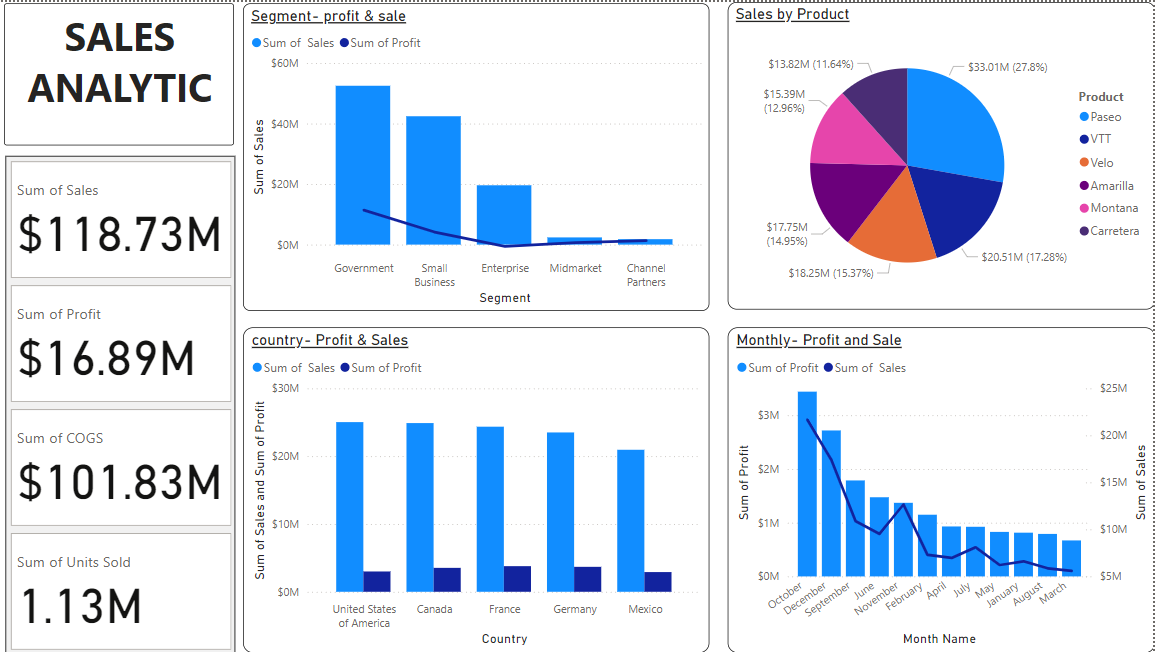

The page's visual inventory and layout, read from the dashboard file:
{"tool":"powerbi","page":{"name":"Page 1","canvas":[1280,720],"ordinal":0},"visuals":[{"type":"cardVisual","fields":{"Data":["Sum(financials. Sales)","Sum(financials.Profit)","Sum(financials.COGS)","Sum(financials.Units Sold)"]},"box":[10,170,254.3,550],"z":0},{"type":"lineStackedColumnComboChart","title":" Segment- profit & sale","fields":{"Category":["financials.Segment"],"Y2":["Sum(financials.Profit)"],"Y":["Sum(financials. Sales)"]},"box":[273.6,1.4,515.3,340.3],"z":1000},{"type":"lineClusteredColumnComboChart","title":" country- Profit & Sales","fields":{"Category":["financials.Country"],"Y":["Sum(financials. Sales)","Sum(financials.Profit)"]},"box":[273.6,359.7,515.3,359.7],"z":2000},{"type":"pieChart","title":"Sales by Product","fields":{"Category":["financials.Product"],"Y":["Sum(financials. Sales)"]},"box":[808.3,0,472.2,340.3],"z":3000},{"type":"lineClusteredColumnComboChart","title":"Monthly- Profit and Sale ","fields":{"Y":["Sum(financials.Profit)"],"Y2":["Sum(financials. Sales)"],"Category":["financials.Month Name"]},"box":[808.3,359.7,472.2,359.7],"z":4000},{"type":"textbox","box":[9.5,1.4,254.1,156.8],"z":5000}]}

Visuals, with their boxes in screenshot pixels (x1, y1, x2, y2), scaled from the page's 1280x720 canvas onto the 1155x652 screenshot:
cardVisual - Sum(financials. Sales) x Sum(financials.Profit): (9, 154, 238, 651)
" Segment- profit & sale" lineStackedColumnComboChart: (247, 1, 712, 309)
" country- Profit & Sales" lineClusteredColumnComboChart: (247, 326, 712, 651)
"Sales by Product" pieChart: (729, 0, 1154, 308)
"Monthly- Profit and Sale " lineClusteredColumnComboChart: (729, 326, 1154, 651)
textbox: (9, 1, 238, 143)
